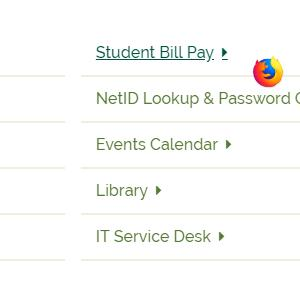firefox: (252, 56, 283, 87)
